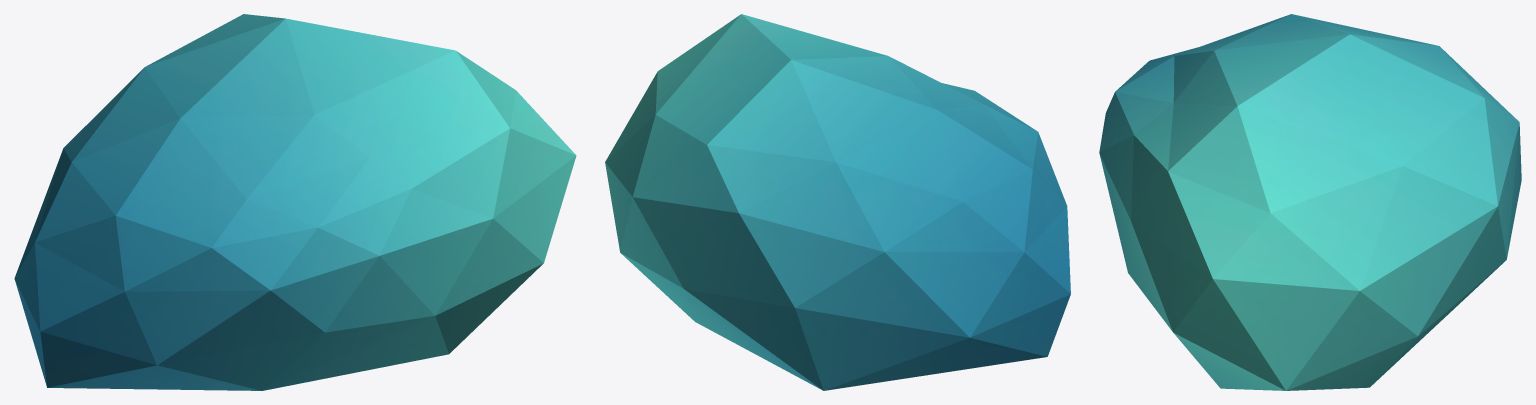
File: SmallRock.fbx
The picture shows the model from 3 angles, left to right: view 1: azimuth 30°, elevation 25°; view 2: azimuth 150°, elevation 25°; view 3: azimuth 270°, elevation 25°; orthographic projection. The views are drawn at different scales.
Visible parts, largest first — view 1: SmallRock; view 2: SmallRock; view 3: SmallRock.
Part boxes in pixels (<box>): SmallRock: <box>14,14,576,390</box>; SmallRock: <box>605,14,1070,390</box>; SmallRock: <box>1099,14,1521,390</box>.
Bounding box in the file's own units: 281 × 181 × 208.
